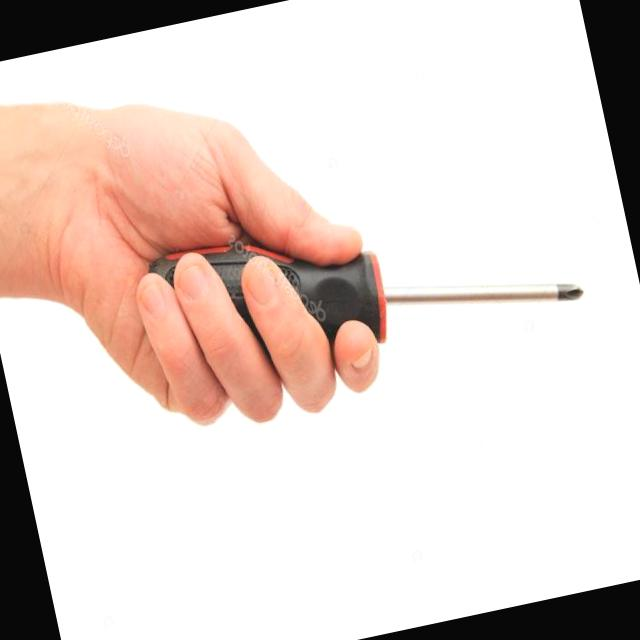screwdriver: (195, 241, 582, 341), (150, 252, 182, 283)
